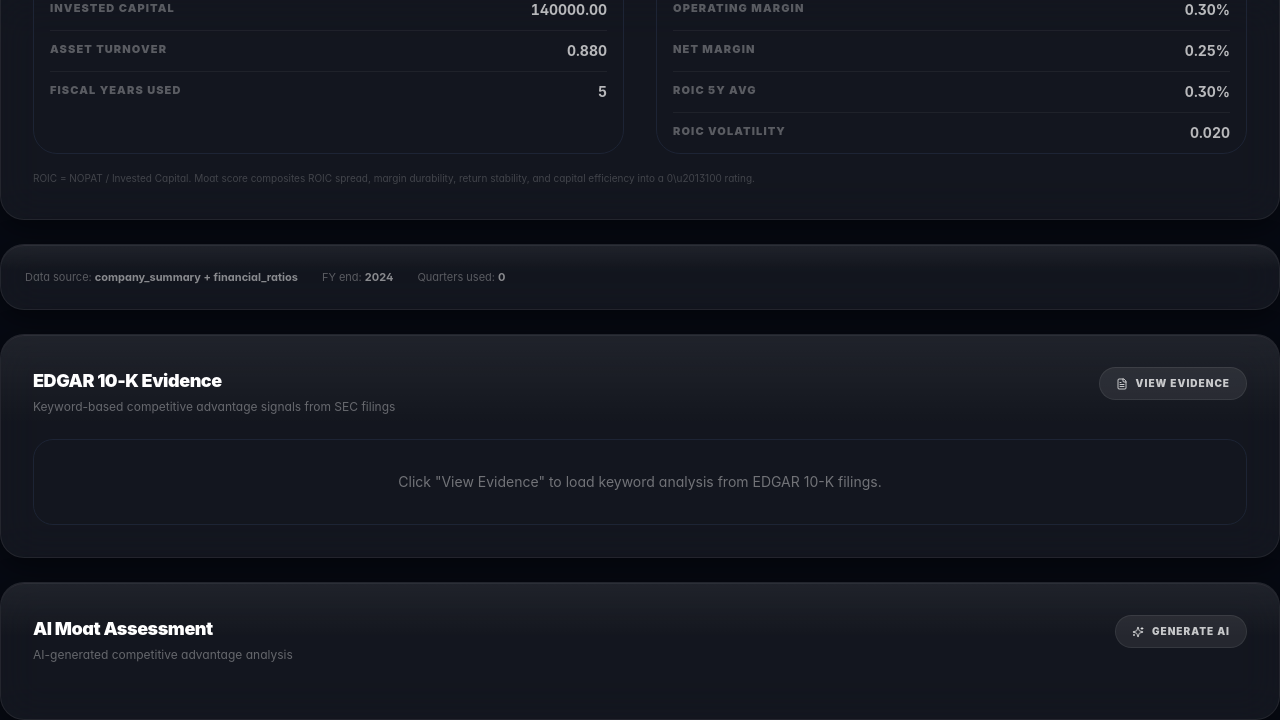
Test: MoatPanel — FT-01 to FT-15 › FT-12: displays AI narrative when loaded via button click
(page scrolled)
Click the button "Generate AI": (1181, 632) [1115,615,1247,648]
(page scrolled)
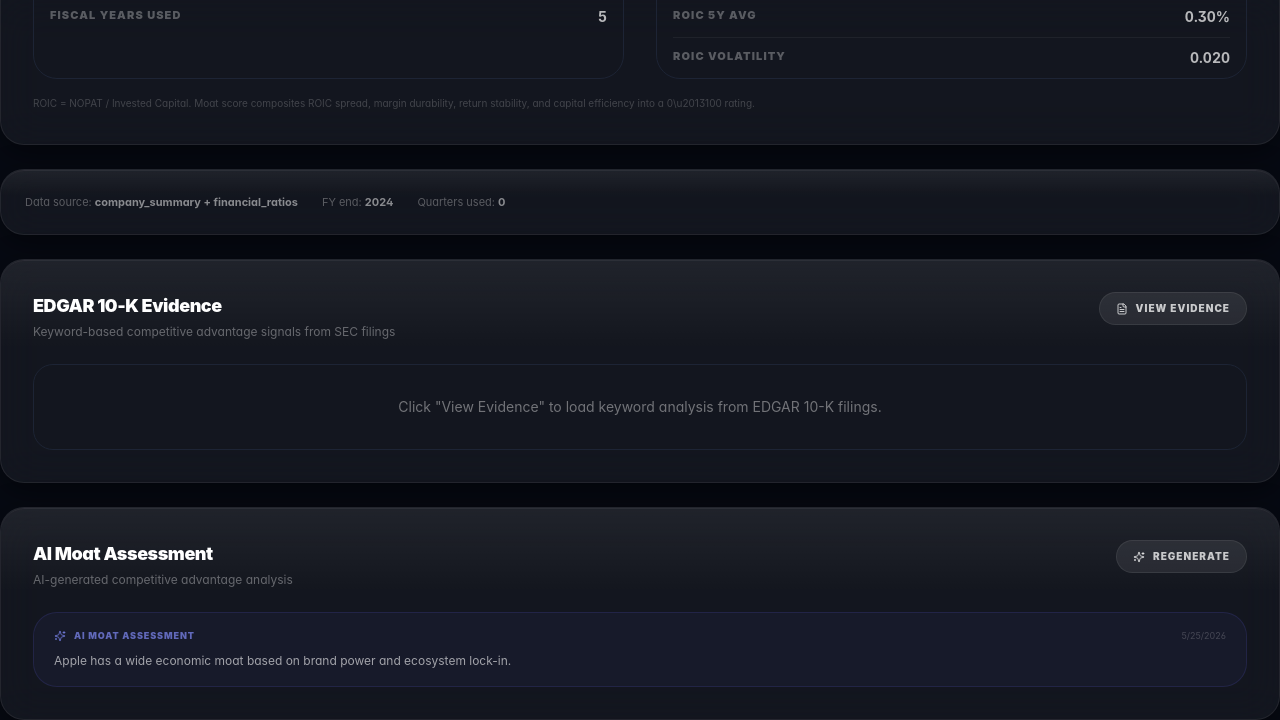
Result: the text "wide economic moat" is shown at [54,652,511,668]
